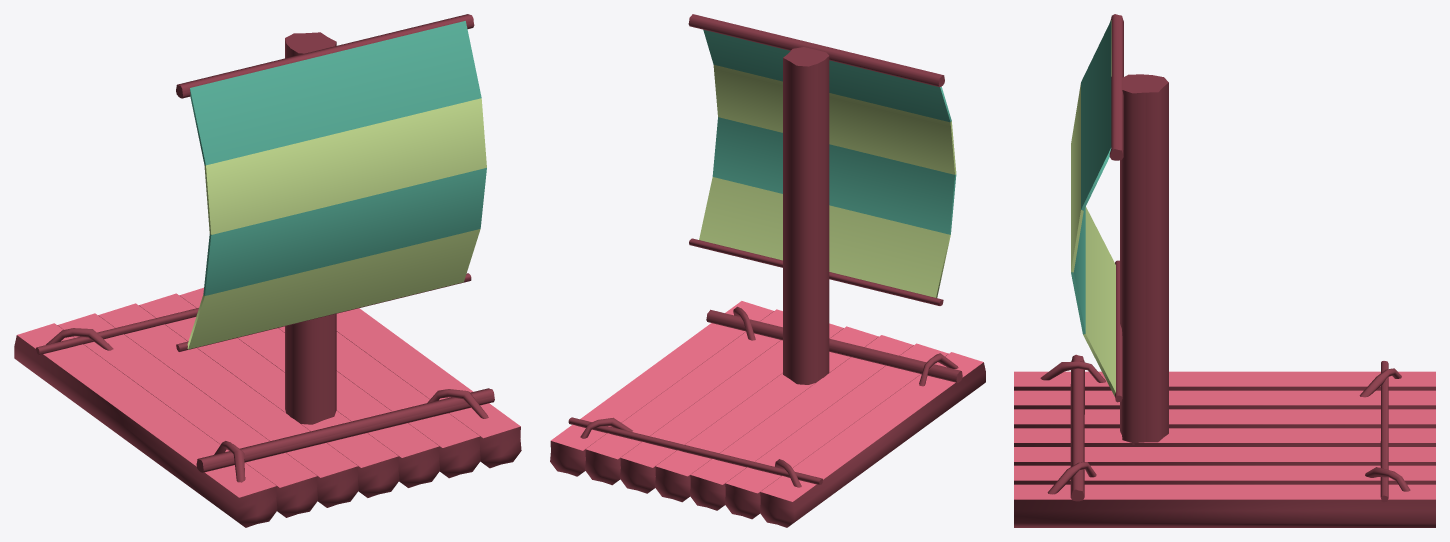
Rendered from barcomadeira.fbx.
3 renders of one model, left to right at view 1: azimuth 30°, elevation 25°; view 2: azimuth 150°, elevation 25°; view 3: azimuth 270°, elevation 25°, orthographic. The views are drawn at different scales.
Parts seen in each view (by area): view 1: barcomadeira; view 2: barcomadeira; view 3: barcomadeira.
Part boxes in pixels (x1,y1,x2,y2): barcomadeira: (14,14,521,527); barcomadeira: (550,14,985,527); barcomadeira: (1014,14,1435,527).
Size of the model in its own units: 109 by 145 by 144.
